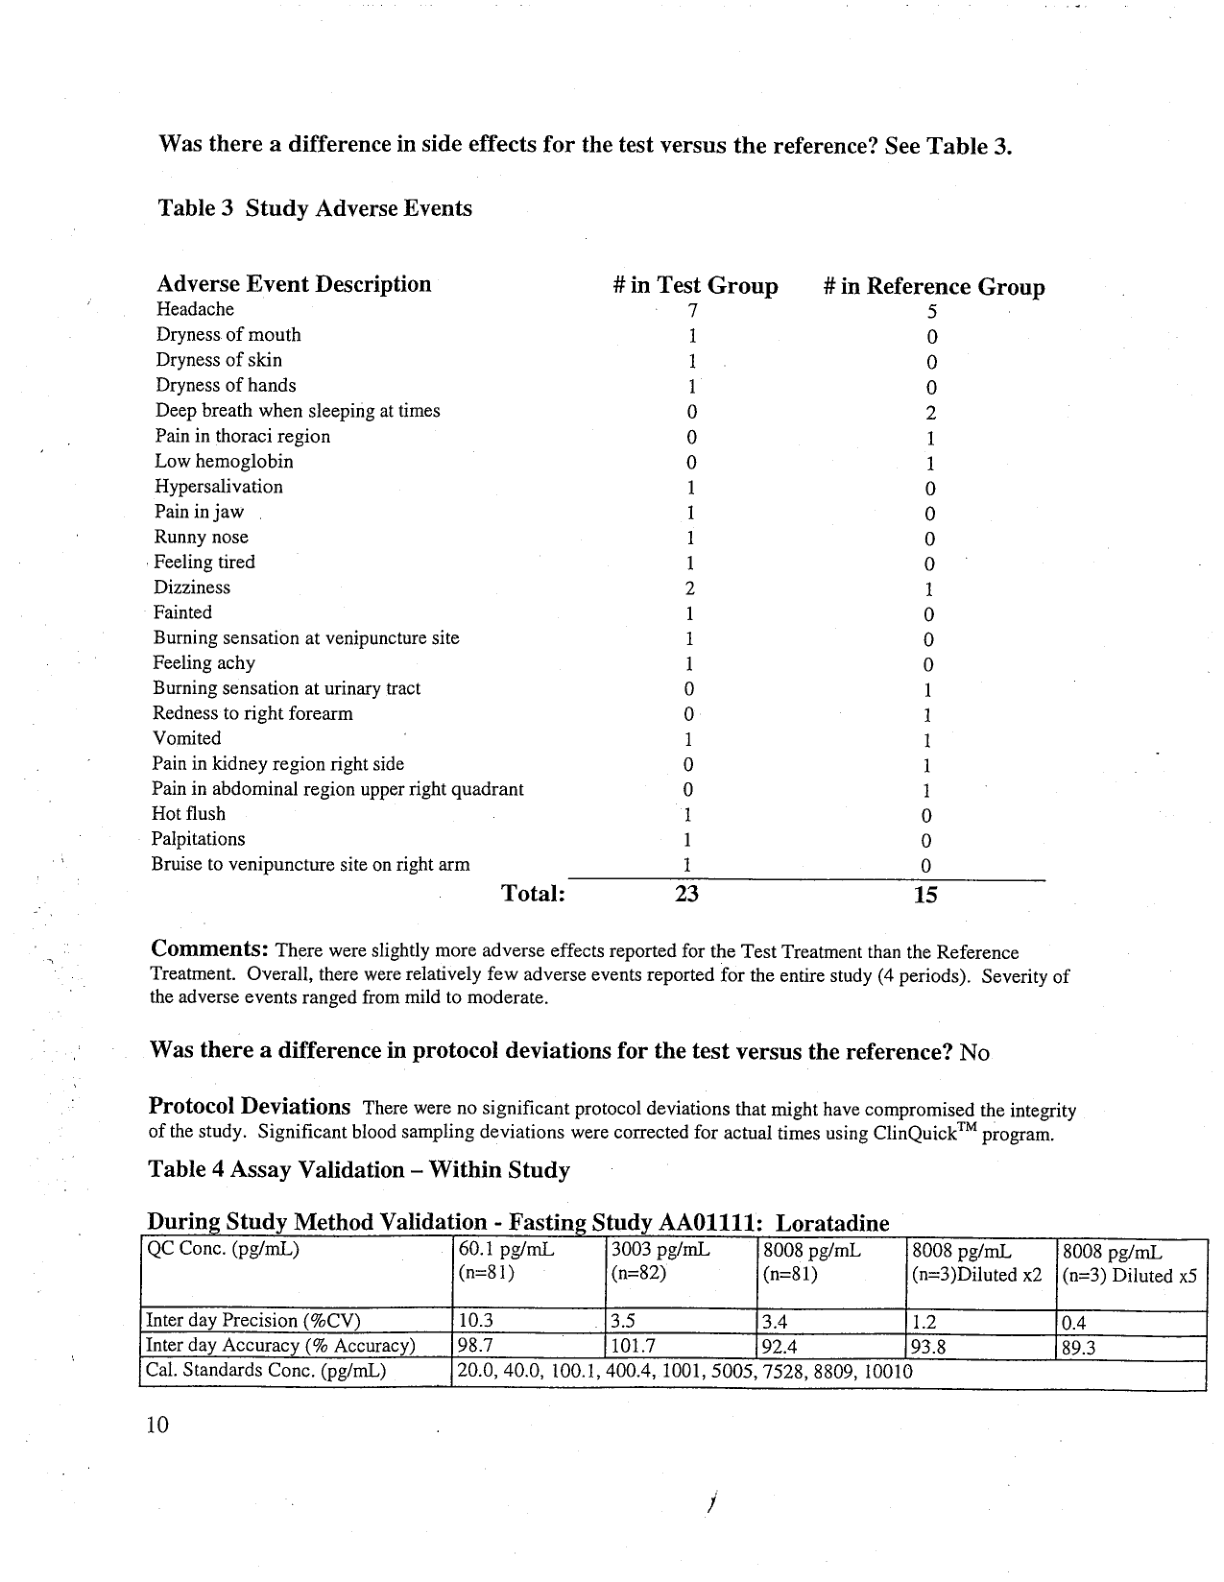merged_cells: (137, 1233, 1210, 1393)
nolines: (149, 268, 1049, 903)
